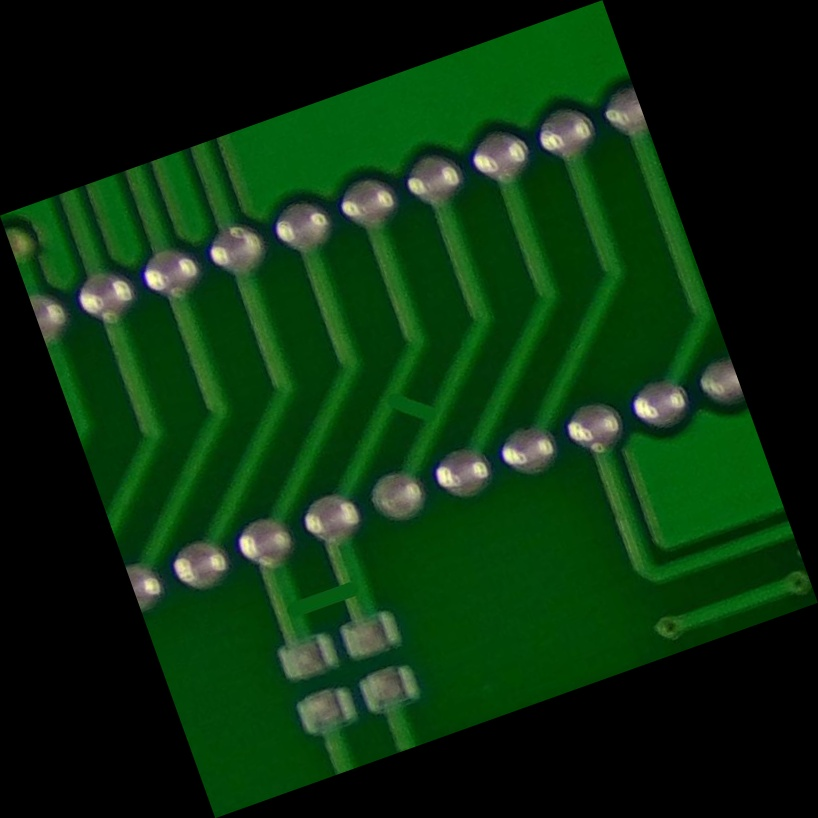short: (362, 368, 458, 451)
